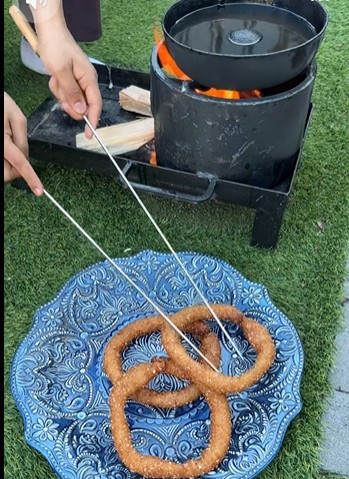sel_roti: (111, 362, 230, 478), (111, 314, 217, 404), (166, 302, 273, 390)
